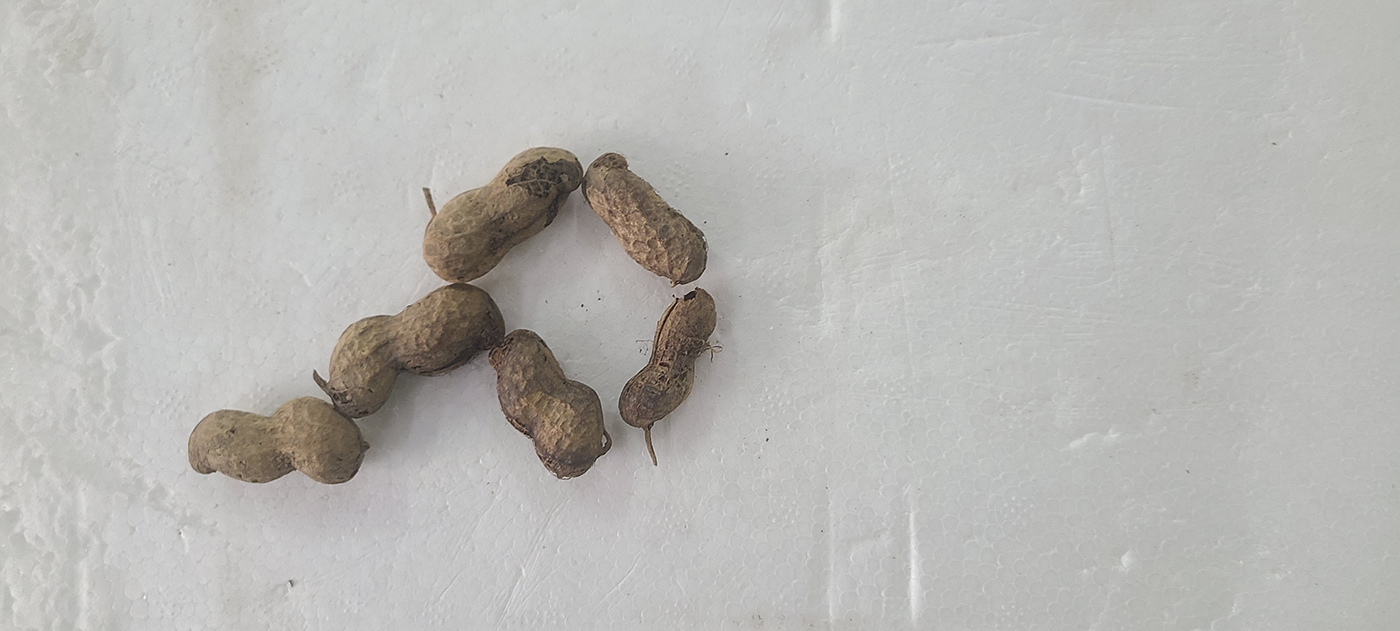l: (326, 282, 501, 416), (420, 146, 583, 283), (494, 329, 606, 480), (186, 393, 364, 487), (584, 152, 708, 283), (618, 287, 716, 429)
